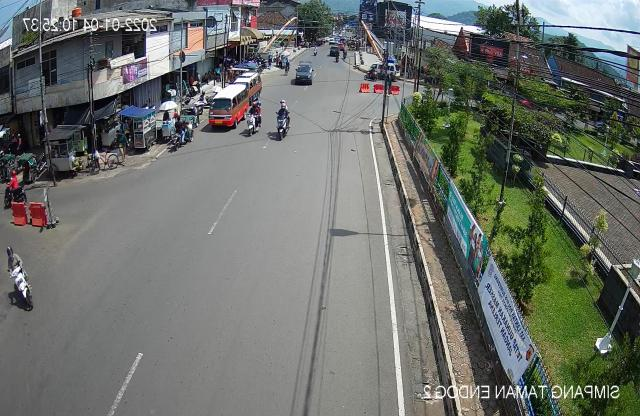Mobil: (203, 80, 250, 137)
Motor: (0, 243, 39, 315), (269, 100, 295, 145), (0, 169, 28, 209), (245, 100, 263, 140)
